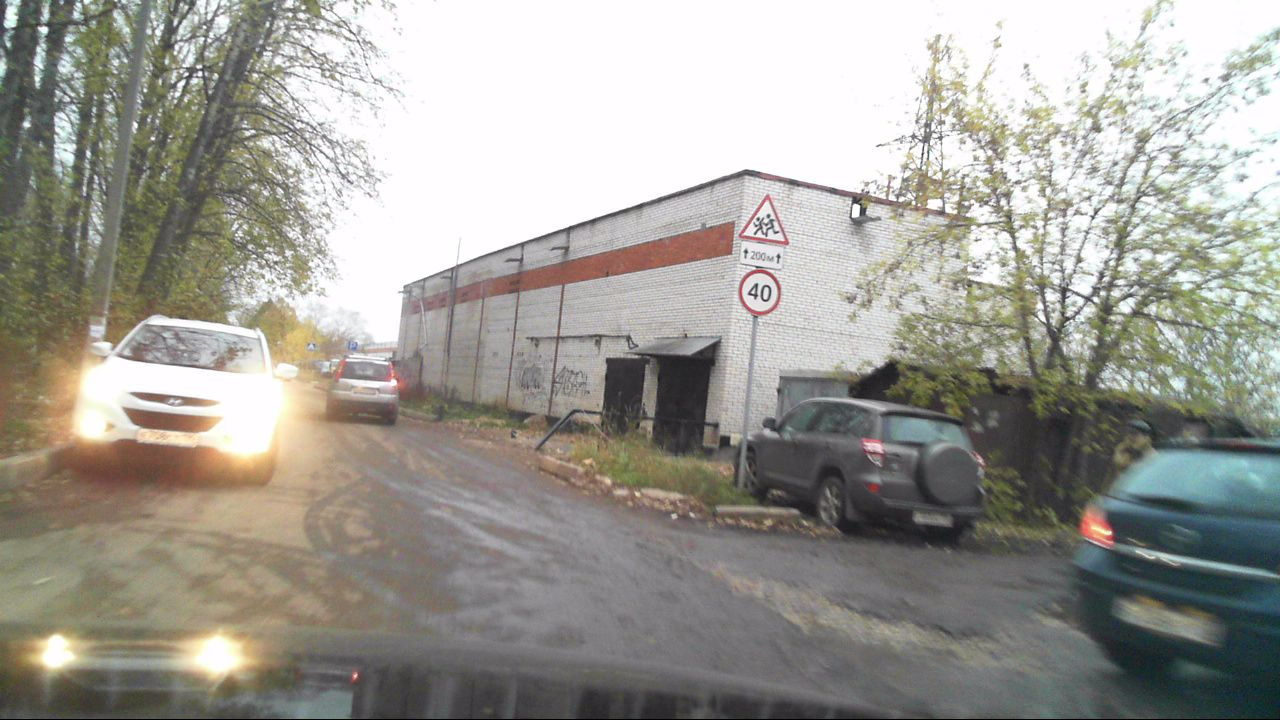speed_warning_40: (739, 270, 780, 316)
